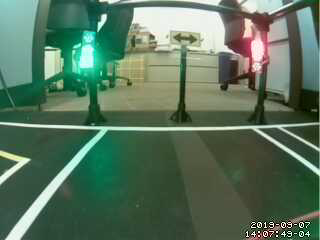Left_Right_sign: (172, 32, 202, 47)
Traffic_light_green: (81, 32, 93, 72)
Traffic_light_red: (251, 35, 264, 71)
